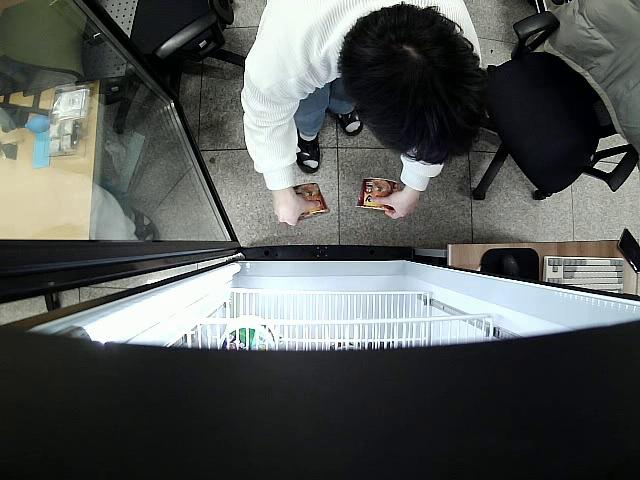00_hand: (273, 191, 323, 227), (370, 189, 421, 221)
05_nuguri_L: (353, 177, 399, 213), (287, 182, 329, 219)
